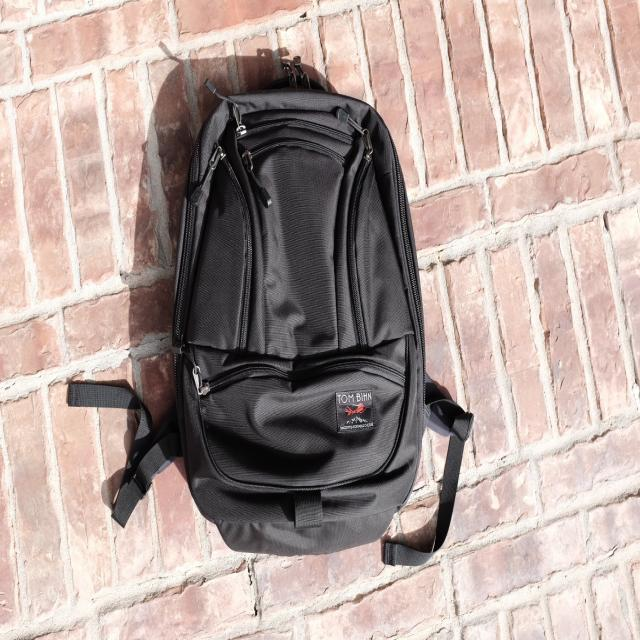Backpacks: (69, 62, 478, 590)
